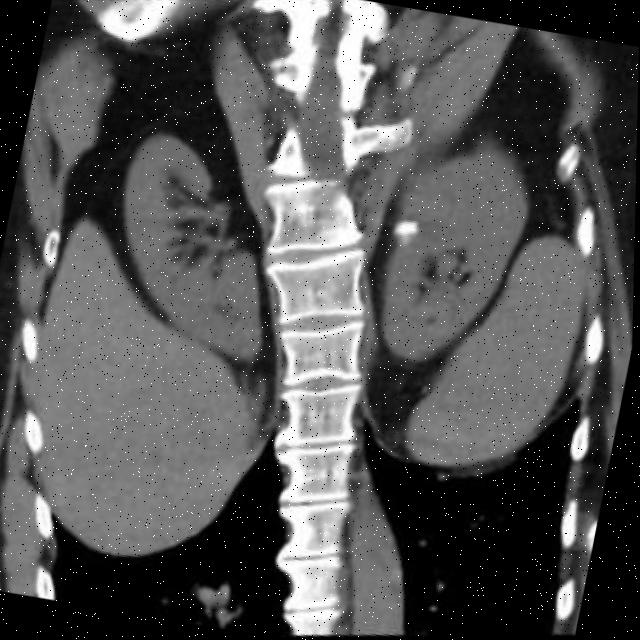Tas_Var: (401, 220, 414, 239), (394, 222, 404, 239), (410, 227, 422, 239), (410, 220, 422, 232)
